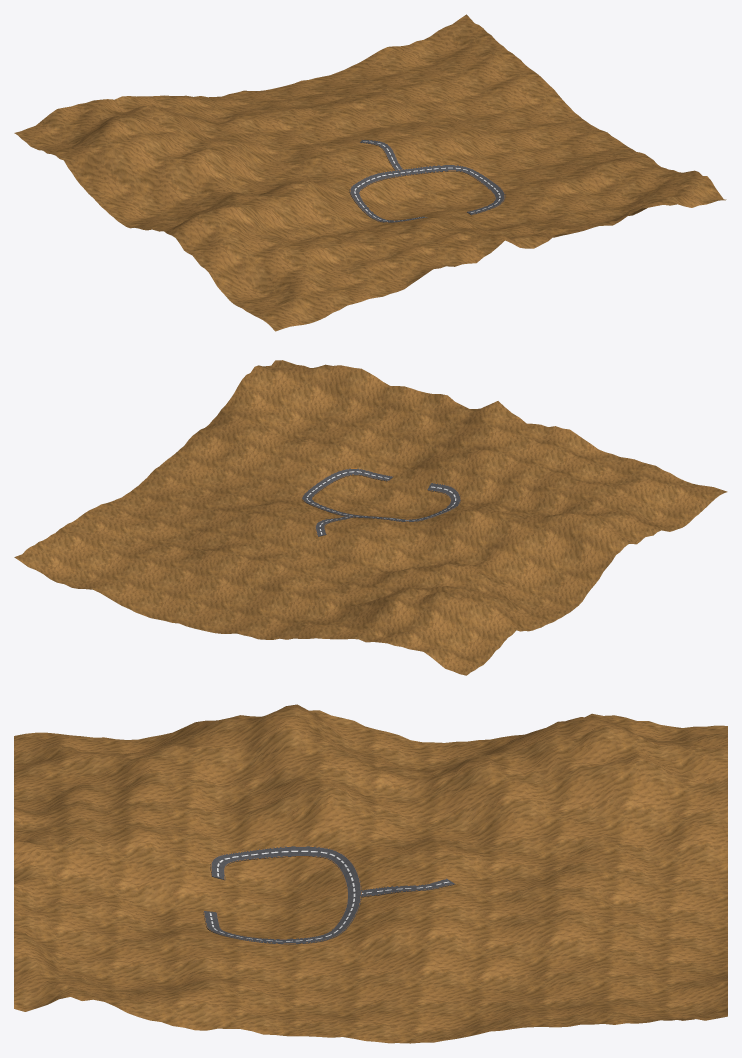
The model's file is Level7B1.fbx.
3 views of the same model, one above another, from view 1: azimuth 30°, elevation 25°; view 2: azimuth 150°, elevation 25°; view 3: azimuth 270°, elevation 25° (orthographic). The views are drawn at different scales.
Visible parts, largest first — view 1: Landscape, Plane; view 2: Landscape, Plane; view 3: Landscape, Plane, Plane.001.
Part boxes in pixels (bbox=[...]): Landscape: bbox=[14, 14, 726, 331]; Plane: bbox=[349, 165, 505, 222]; Landscape: bbox=[14, 360, 727, 675]; Plane: bbox=[302, 468, 460, 521]; Landscape: bbox=[14, 704, 727, 1043]; Plane: bbox=[203, 846, 361, 944]; Plane.001: bbox=[361, 878, 455, 897].
Bounding box in the file's own units: 36150 × 3904 × 36150.
